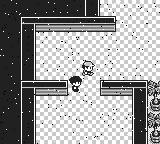main: (82, 62, 95, 75)
no-caminable: (1, 0, 86, 143), (21, 18, 116, 31), (21, 23, 35, 81), (133, 86, 146, 143), (22, 87, 35, 143), (148, 83, 160, 143), (100, 80, 147, 95), (22, 81, 68, 95), (84, 0, 99, 16)
npc: (70, 76, 82, 91)
